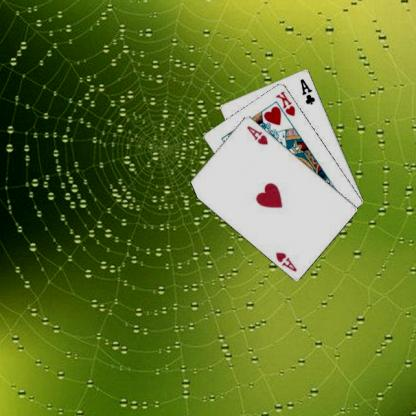AC: (300, 76, 318, 106)
AH: (245, 122, 272, 146), (275, 249, 300, 273)
KH: (274, 88, 298, 117)
